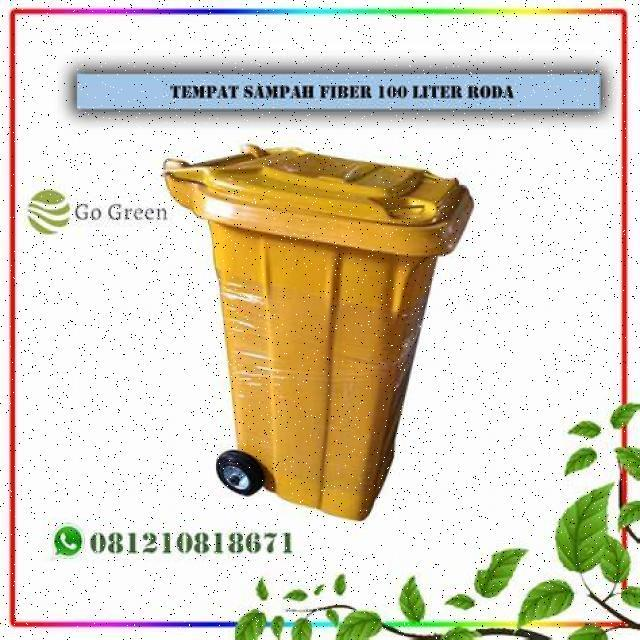garbage container: (166, 130, 475, 522)
